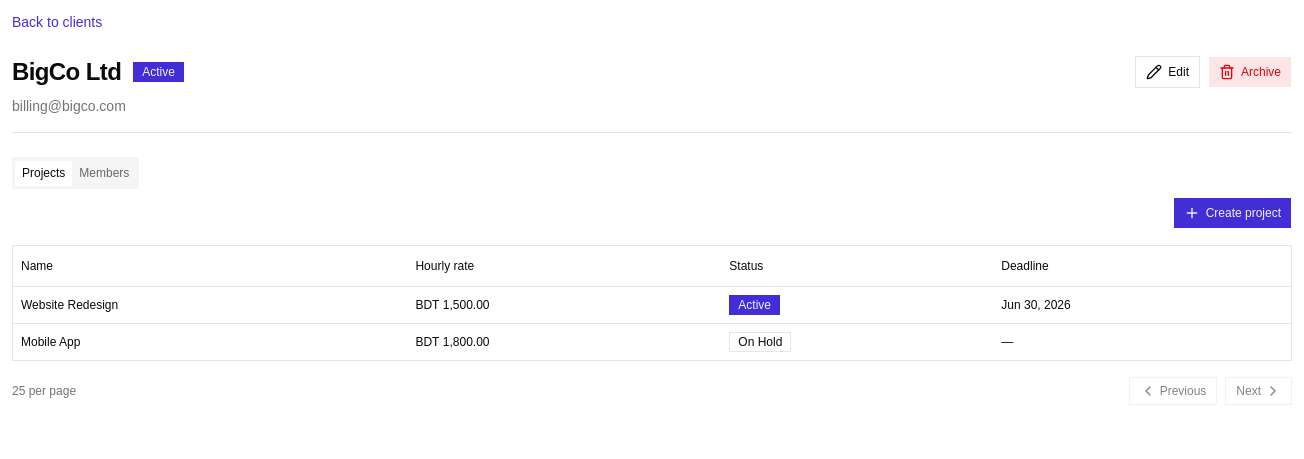
Scenario: ClientDetailPage › renders portal members on members tab
Expected: the heading "BigCo Ltd" is shown, [12, 56, 121, 88]
Click the tab "Members" at (104, 173), box [72, 160, 136, 186]
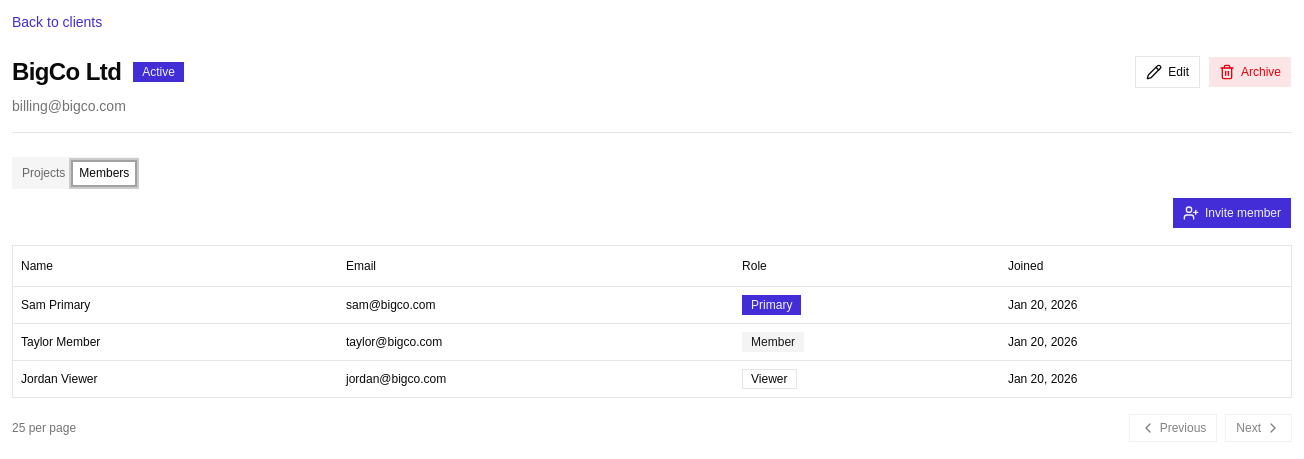
Now the text "Sam Primary" is shown, box [13, 286, 338, 323]
Now the text "Taylor Member" is shown, box [13, 323, 338, 360]
